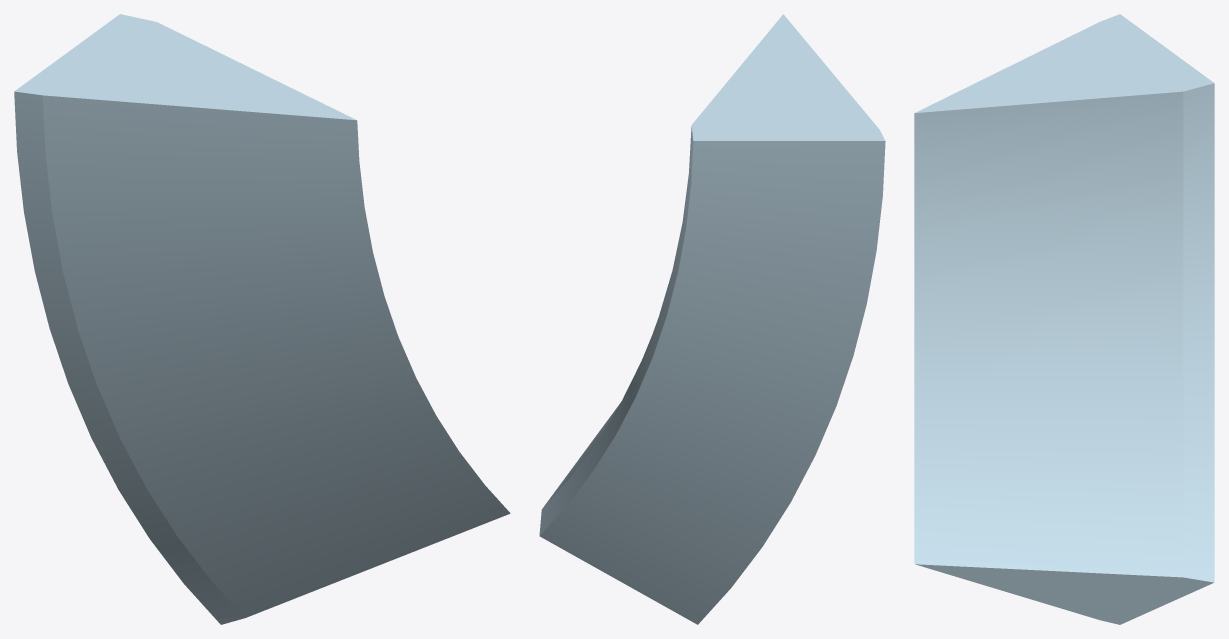
File: Sub_8_Cell_1_3.gltf
The picture shows the model from 3 angles, left to right: view 1: azimuth 30°, elevation 25°; view 2: azimuth 150°, elevation 25°; view 3: azimuth 270°, elevation 25°; orthographic projection. The views are drawn at different scales.
Visible parts, largest first — view 1: Sub_8_Cell_1_3; view 2: Sub_8_Cell_1_3; view 3: Sub_8_Cell_1_3.
Boxes of the visible parts, x1,y1,x2,y2 form: Sub_8_Cell_1_3: (14, 14, 510, 624); Sub_8_Cell_1_3: (539, 14, 885, 624); Sub_8_Cell_1_3: (914, 14, 1214, 624).
Size of the model in its own units: 0.076 by 0.1112 by 0.0581.
